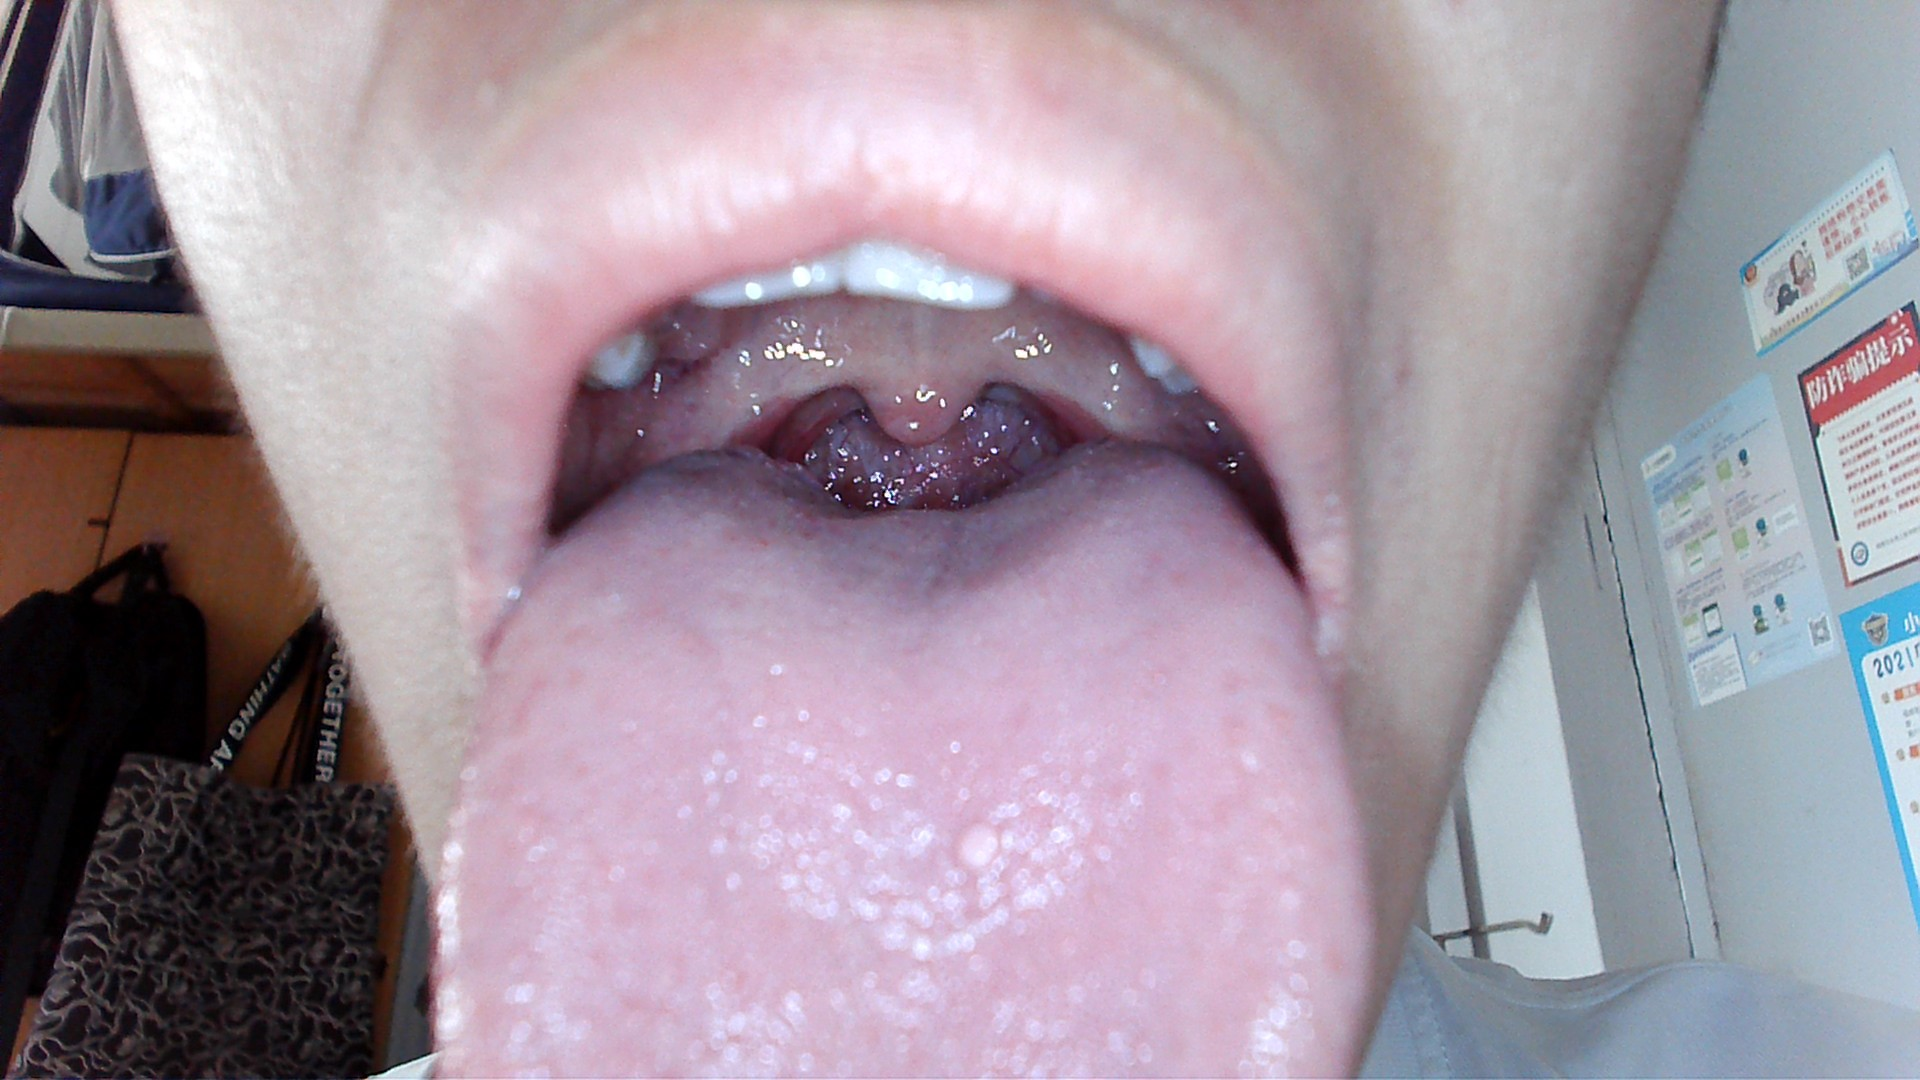throat: (686, 352, 806, 456), (1022, 324, 1114, 440)
